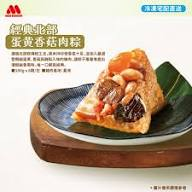zongzi: (71, 49, 165, 133)
